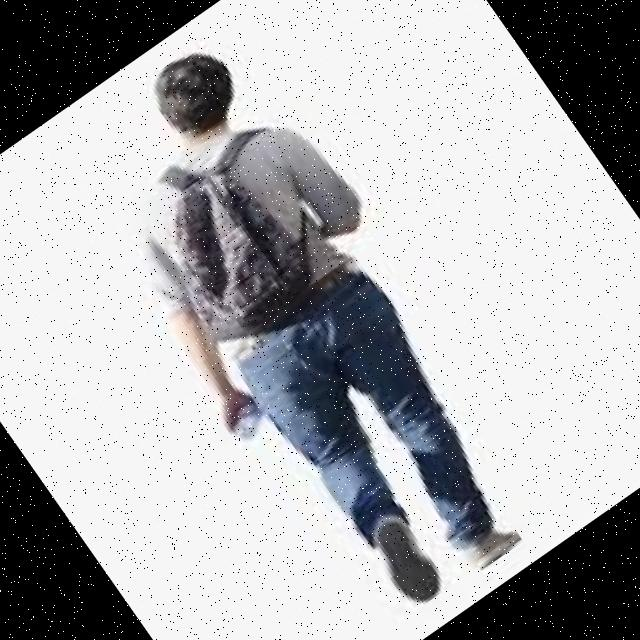Person: (34, 15, 578, 640)
